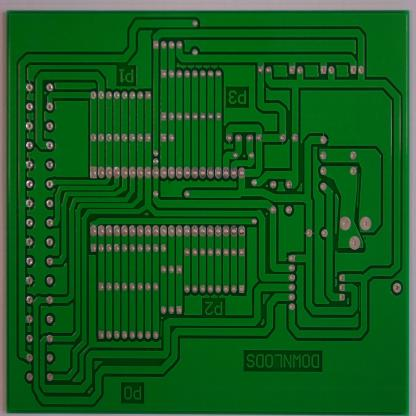spurious_copper: (355, 172, 363, 208), (357, 284, 362, 312), (159, 320, 164, 338)
